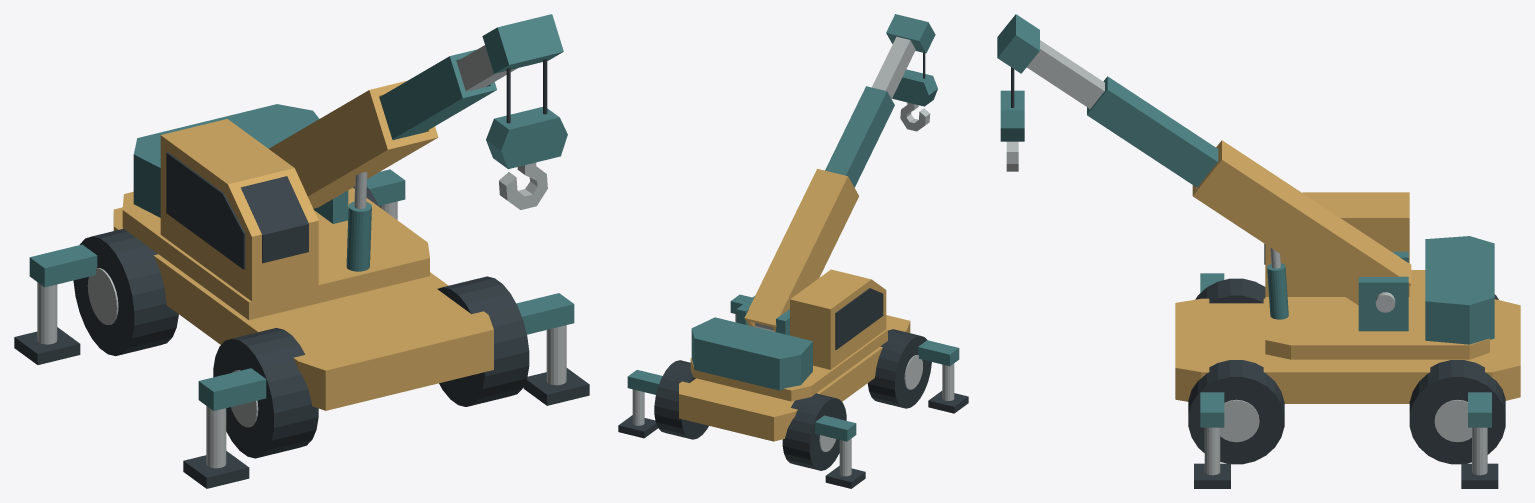
3 views of the same model, side by side, from view 1: azimuth 30°, elevation 25°; view 2: azimuth 150°, elevation 25°; view 3: azimuth 270°, elevation 25° (orthographic). The views are drawn at different scales.
Visible parts, largest first — view 1: WholeLowClosedCarrierChassis, WholeOffsetUpperCab, WholeUpperOperatorAndCounterweightDeck, WholeOuterHollowBoxBoom, WholeLargeGroundTyreLeft0, WholeLargeGroundTyreLeft1, WholeLargeGroundTyreRight0, WholeMiddleHollowBoxBoom, WholeOpaqueUpperCabSideWindow, WholeRearUpperCounterweight, WholeOpaqueUpperCabFrontWindow, WholeSuspendedHookBlock (+16 smaller); view 2: WholeOuterHollowBoxBoom, WholeLowClosedCarrierChassis, WholeRearUpperCounterweight, WholeOffsetUpperCab, WholeMiddleHollowBoxBoom, WholeLargeGroundTyreLeft0, WholeLargeGroundTyreLeft1, WholeUpperOperatorAndCounterweightDeck, WholeLargeGroundTyreRight1, WholeOpaqueUpperCabSideWindow, WholeInnerHollowBoxBoom, WholeUpperTipSheaveCarrier (+12 smaller); view 3: WholeLowClosedCarrierChassis, WholeOuterHollowBoxBoom, WholeUpperOperatorAndCounterweightDeck, WholeRearUpperCounterweight, WholeMiddleHollowBoxBoom, WholeLargeGroundTyreRight1, WholeLargeGroundTyreRight0, WholeOffsetUpperCab, WholeBoomRootCheekRight, WholeInnerHollowBoxBoom, WholeUpperTipSheaveCarrier, WholeLargeGroundTyreLeft0 (+10 smaller).
Part boxes in pixels (<box>): WholeLowClosedCarrierChassis: <box>113,207,493,410</box>; WholeOffsetUpperCab: <box>160,119,318,306</box>; WholeUpperOperatorAndCounterweightDeck: <box>122,187,429,319</box>; WholeOuterHollowBoxBoom: <box>269,80,438,208</box>; WholeLargeGroundTyreLeft0: <box>213,328,318,458</box>; WholeLargeGroundTyreLeft1: <box>73,228,178,356</box>; WholeLargeGroundTyreRight0: <box>437,276,529,406</box>; WholeMiddleHollowBoxBoom: <box>379,49,496,139</box>; WholeOpaqueUpperCabSideWindow: <box>166,152,245,269</box>; WholeRearUpperCounterweight: <box>133,104,319,217</box>; WholeOpaqueUpperCabFrontWindow: <box>240,176,308,263</box>; WholeSuspendedHookBlock: <box>486,107,567,169</box>; WholeOuterHollowBoxBoom: <box>744,168,858,331</box>; WholeLowClosedCarrierChassis: <box>679,315,910,441</box>; WholeRearUpperCounterweight: <box>691,317,812,390</box>; WholeOffsetUpperCab: <box>790,269,886,369</box>; WholeMiddleHollowBoxBoom: <box>825,86,894,187</box>; WholeLargeGroundTyreLeft0: <box>867,329,931,408</box>; WholeLargeGroundTyreLeft1: <box>782,393,846,470</box>; WholeUpperOperatorAndCounterweightDeck: <box>690,329,887,401</box>; WholeLargeGroundTyreRight1: <box>654,360,708,439</box>; WholeOpaqueUpperCabSideWindow: <box>835,288,883,349</box>; WholeInnerHollowBoxBoom: <box>872,36,915,98</box>; WholeUpperTipSheaveCarrier: <box>886,14,935,53</box>; WholeLowClosedCarrierChassis: <box>1175,298,1520,403</box>; WholeOuterHollowBoxBoom: <box>1192,140,1411,305</box>; WholeUpperOperatorAndCounterweightDeck: <box>1265,270,1489,359</box>; WholeRearUpperCounterweight: <box>1425,236,1494,344</box>; WholeMiddleHollowBoxBoom: <box>1087,76,1218,187</box>; WholeLargeGroundTyreRight1: <box>1409,360,1505,464</box>; WholeLargeGroundTyreRight0: <box>1188,360,1284,464</box>; WholeOffsetUpperCab: <box>1265,192,1409,296</box>; WholeBoomRootCheekRight: <box>1358,276,1408,331</box>; WholeInnerHollowBoxBoom: <box>1026,40,1104,108</box>; WholeUpperTipSheaveCarrier: <box>997,14,1039,73</box>; WholeLargeGroundTyreLeft0: <box>1195,278,1265,303</box>.
Bounding box in the file's own units: 3.78 × 4.72 × 5.65.
